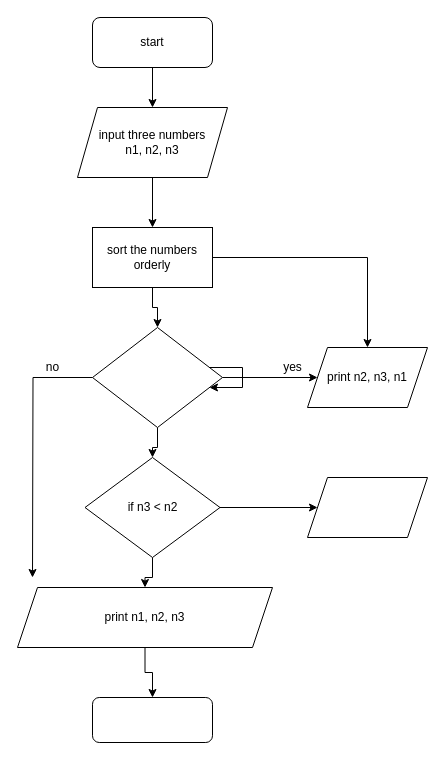
This 445x760 diagram has some shape labels left out. The centre of each missing label's shape, as x and y in pixels:
"end" belongs at (152,719).
"if n1 is > n2" belongs at (157,377).
"print n3, n2, n1" belongs at (367,507).
